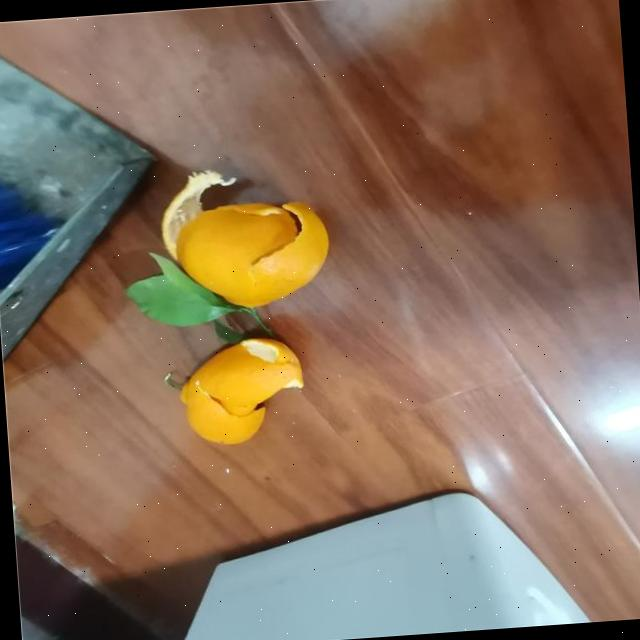orange-peel: (172, 195, 332, 312), (175, 332, 307, 448)
